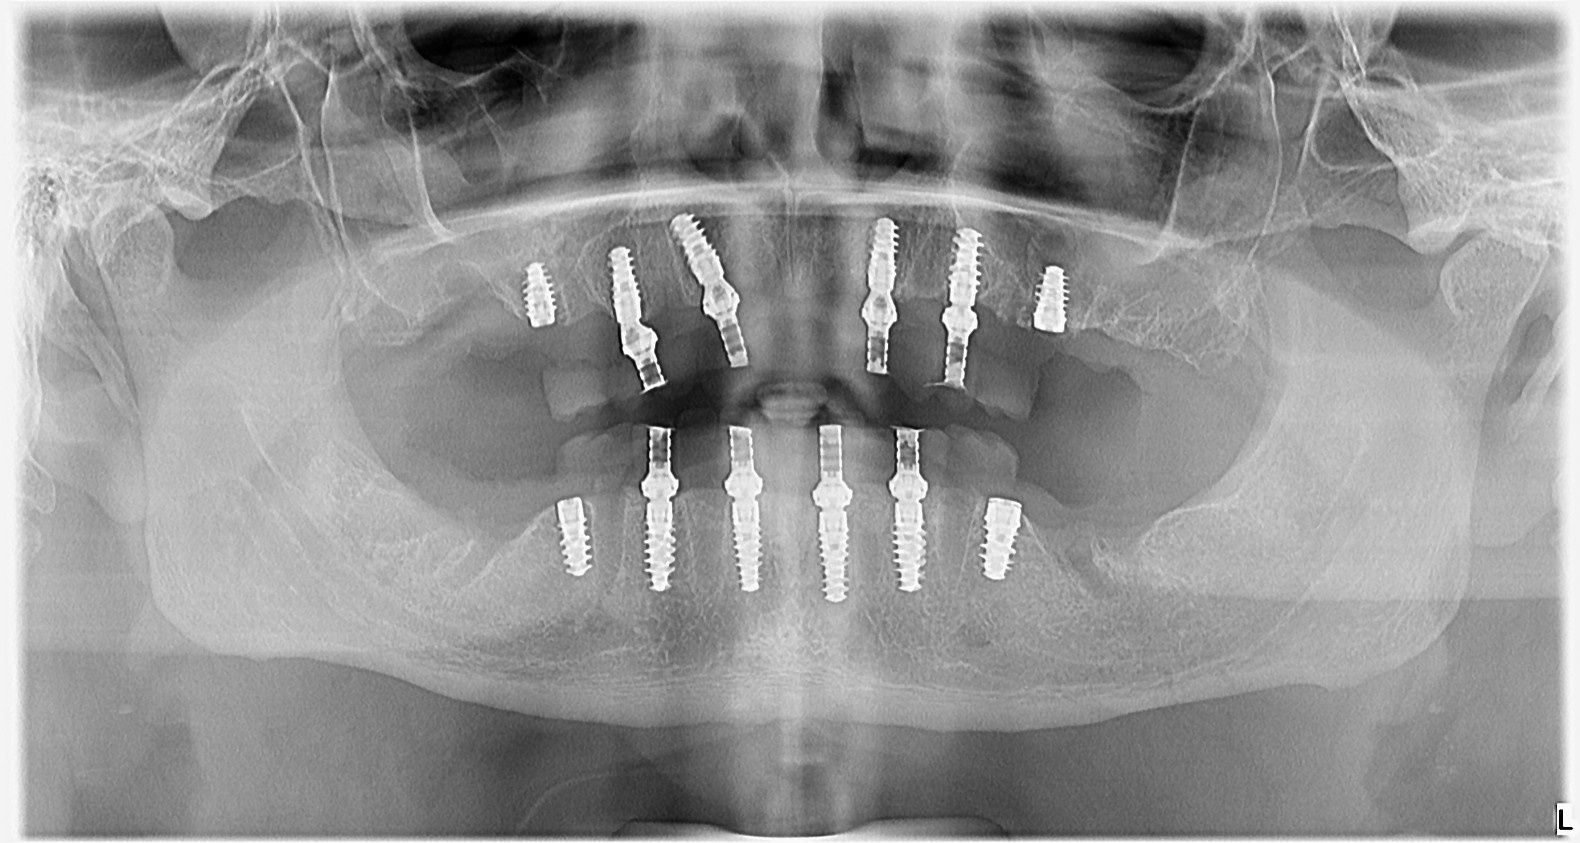IMP: (666, 203, 760, 377), (869, 419, 944, 598), (927, 223, 998, 401), (595, 234, 670, 396), (801, 415, 861, 610), (851, 207, 914, 380), (630, 417, 689, 600), (716, 413, 772, 600), (970, 486, 1042, 591), (501, 243, 570, 342), (543, 479, 605, 589), (1021, 252, 1083, 346)
